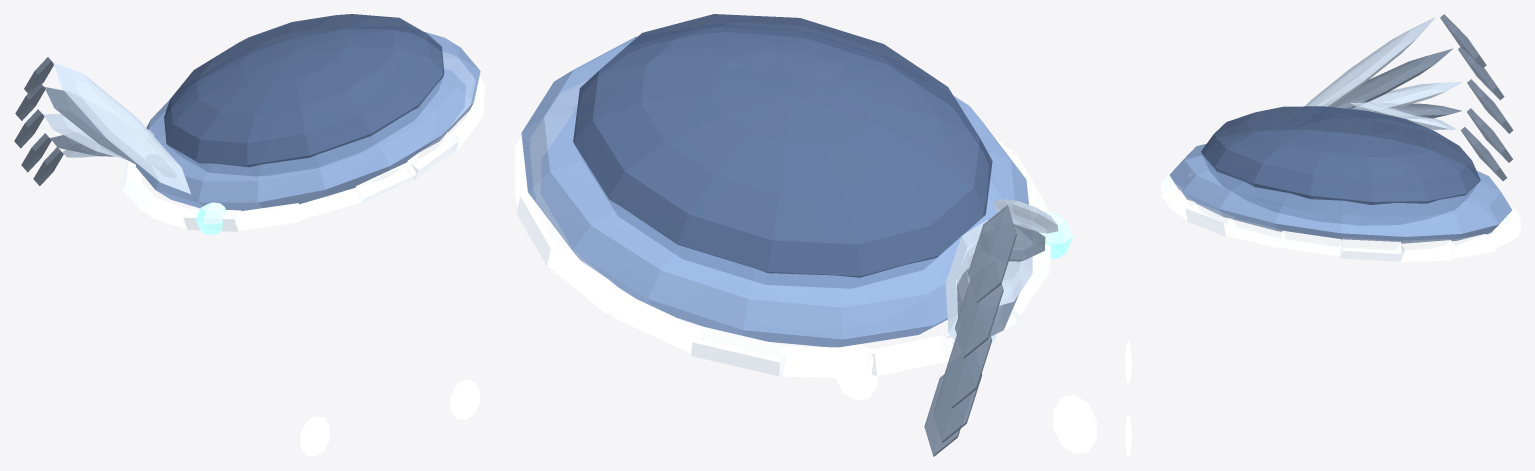
The model's file is fog_courtier_cap.glb.
3 renders of one model, left to right at view 1: azimuth 30°, elevation 25°; view 2: azimuth 150°, elevation 25°; view 3: azimuth 270°, elevation 25°, orthographic. The views are drawn at different scales.
Visible parts, largest first — view 1: fog_courtier_cap; view 2: fog_courtier_cap; view 3: fog_courtier_cap.
Boxes of the visible parts, <box> form: fog_courtier_cap: <box>14,14,485,456</box>; fog_courtier_cap: <box>514,14,1096,456</box>; fog_courtier_cap: <box>1125,14,1520,456</box>.
Bounding box in the file's own units: 0.9645 × 0.768 × 0.8713.
